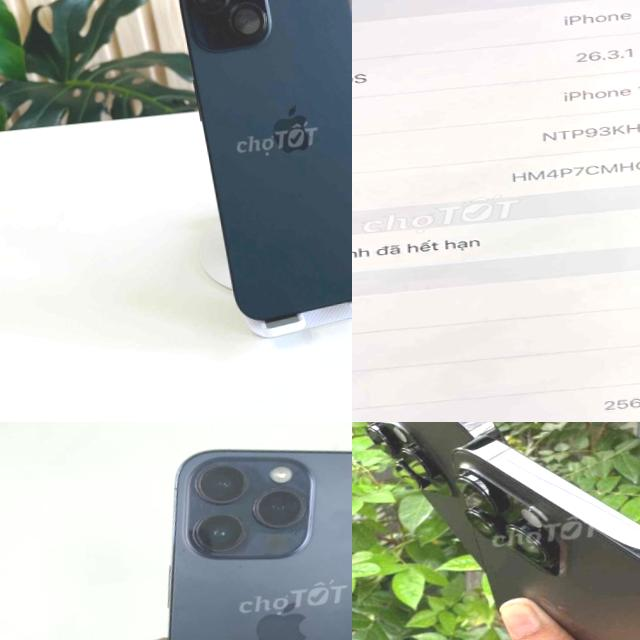gen_14: (119, 427, 352, 640), (444, 422, 640, 640)
gen_15: (352, 0, 640, 422), (160, 0, 352, 364)
